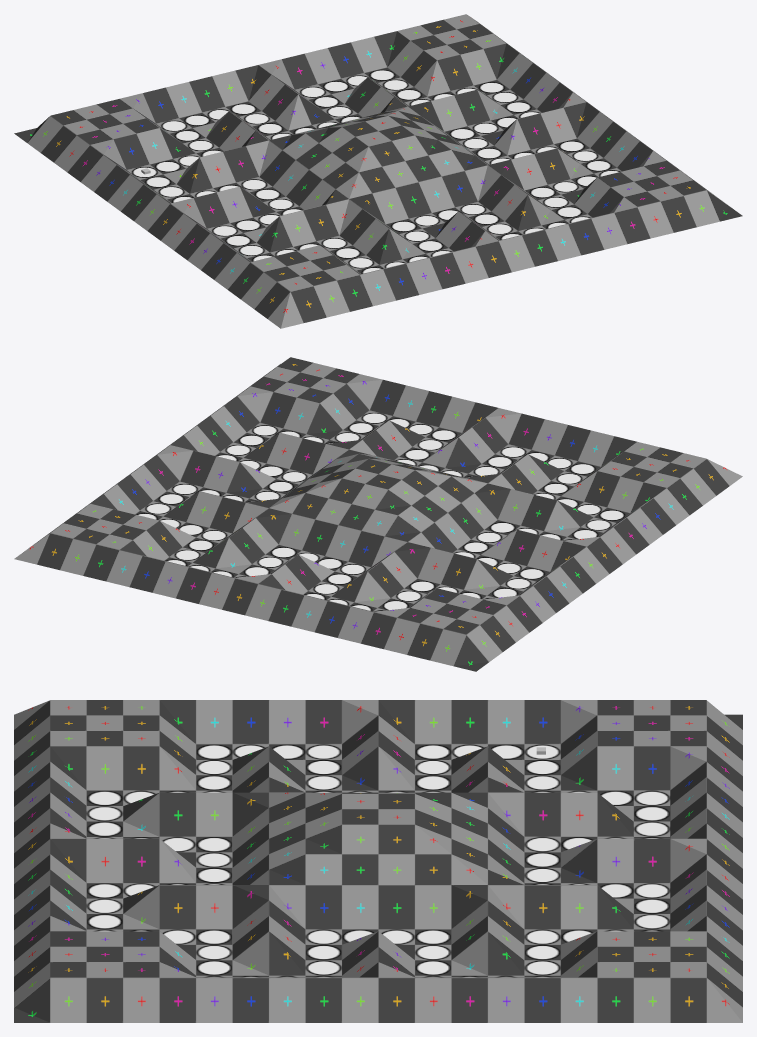
The model's file is board.obj.
3 views of the same model, one above another, from view 1: azimuth 30°, elevation 25°; view 2: azimuth 150°, elevation 25°; view 3: azimuth 270°, elevation 25° (orthographic). The views are drawn at different scales.
Visible parts, largest first — view 1: Grid_Grid.001; view 2: Grid_Grid.001; view 3: Grid_Grid.001.
Boxes of the visible parts, <box> form: Grid_Grid.001: <box>14,14,742,328</box>; Grid_Grid.001: <box>14,357,742,671</box>; Grid_Grid.001: <box>14,700,742,1022</box>.
Size of the model in its own units: 13.39 by 1.3 by 13.39.
